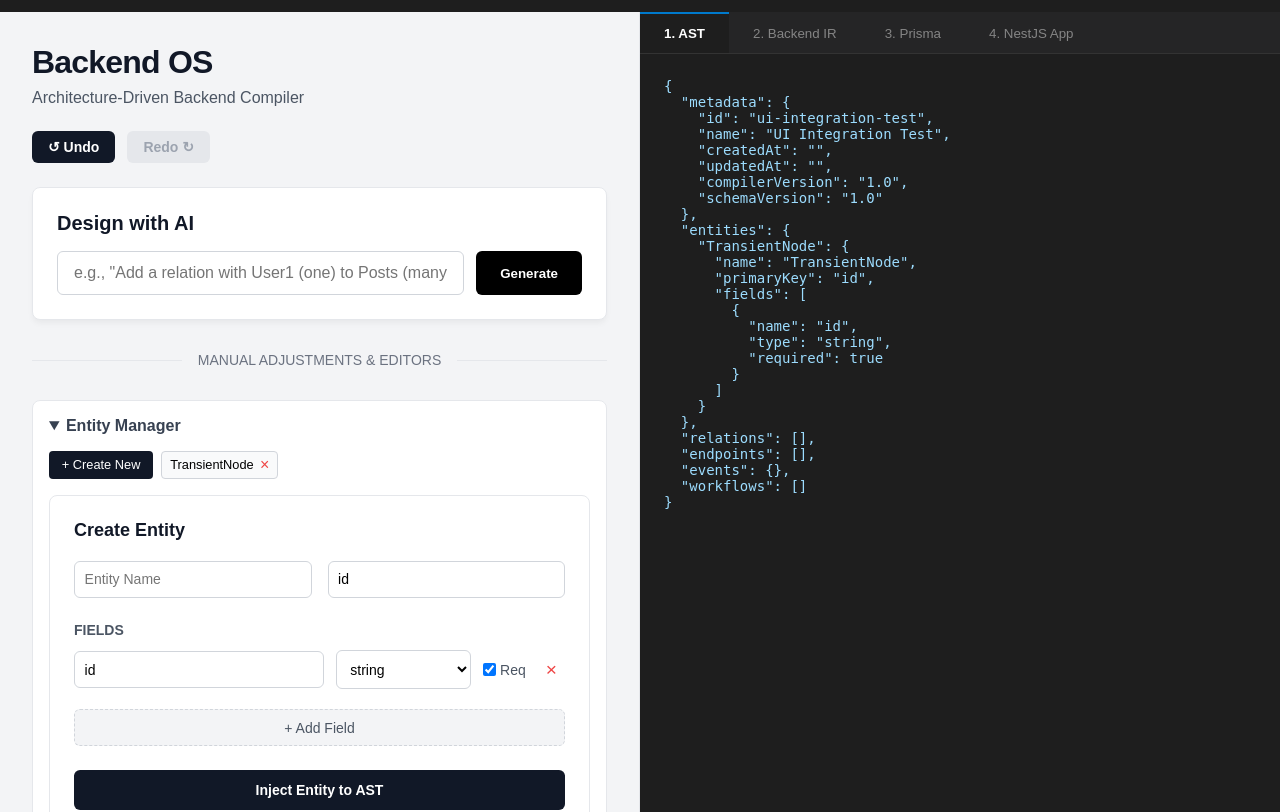
Test: Sprint 10 UI integration › History toolbar › clears the edit form when Undo removes its selected entity
Click the button "TransientNode".
click(212, 465)  # box left=170, top=457, right=254, bottom=472
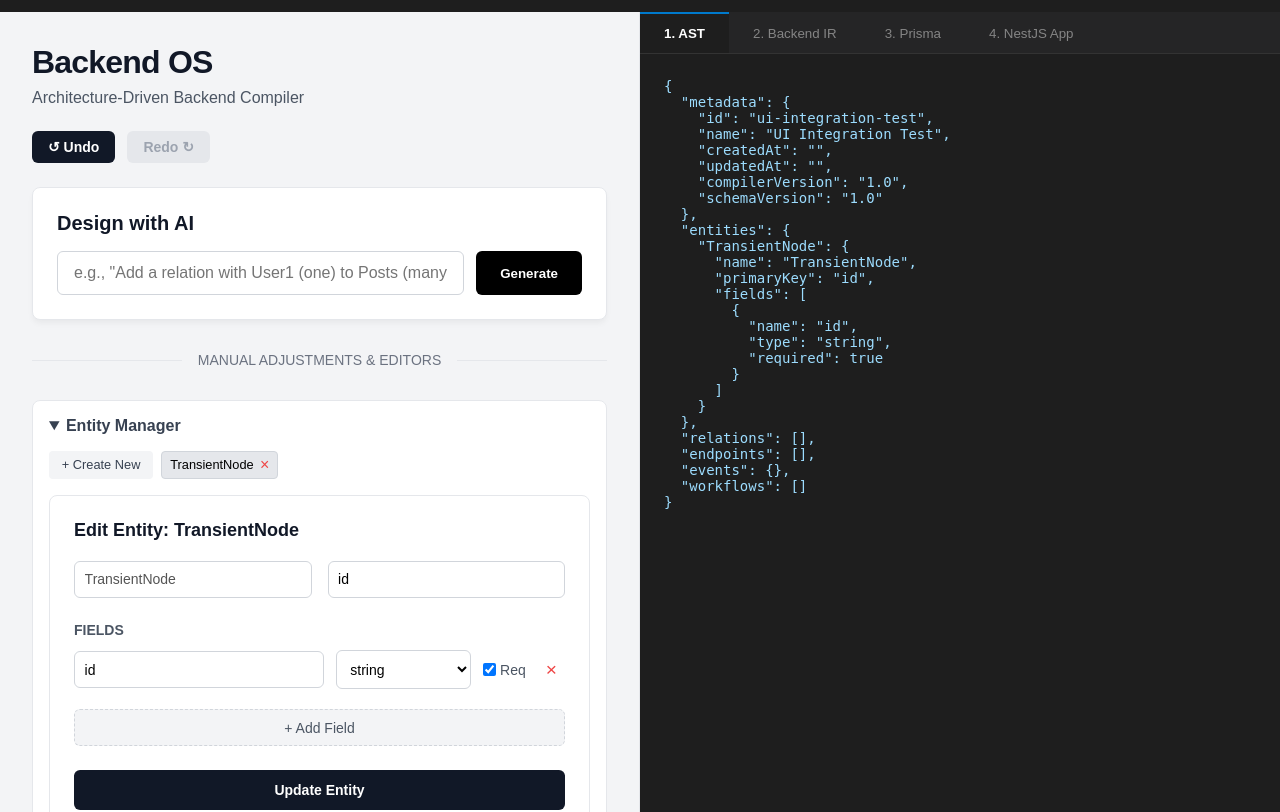
Now the heading "Edit Entity: TransientNode" is shown, box left=74, top=520, right=299, bottom=540
Click the button "↺ Undo".
click(74, 147)  # box left=32, top=131, right=115, bottom=163
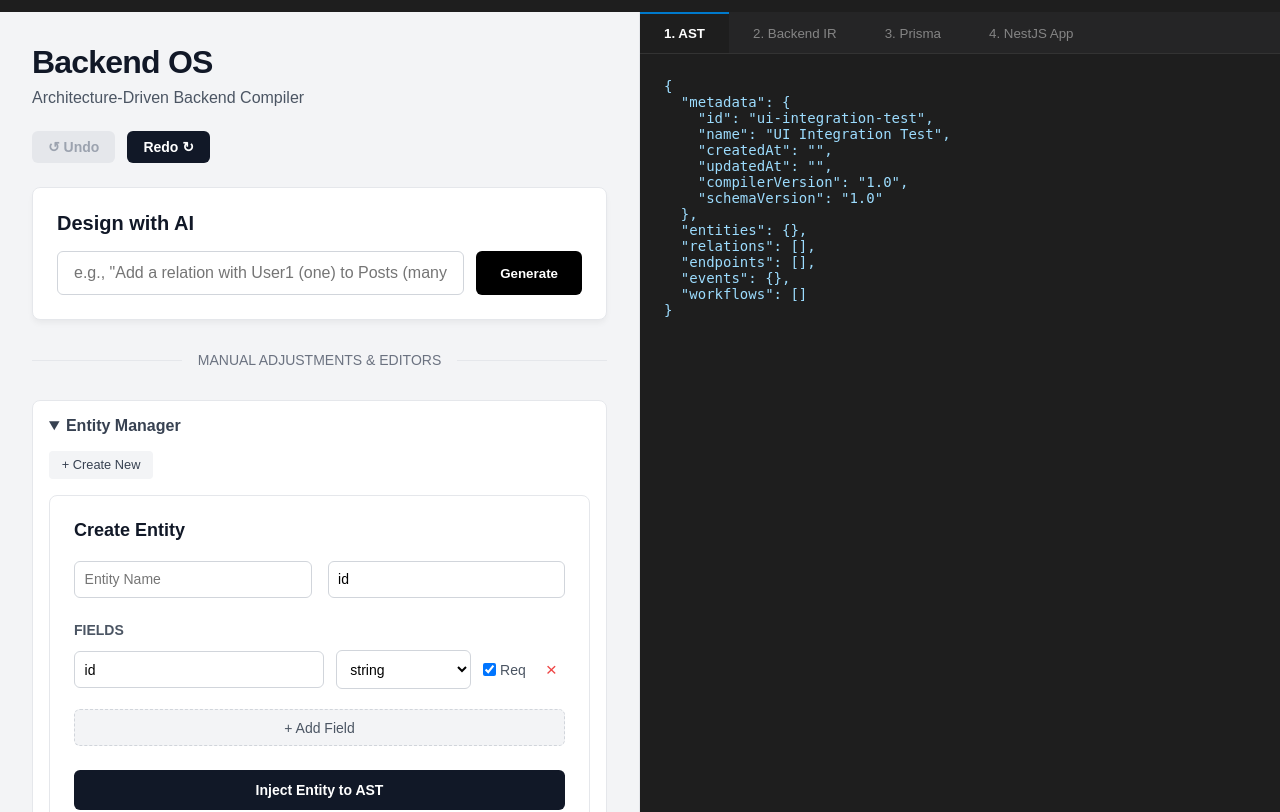
Now the heading "Edit Entity: TransientNode" is gone
